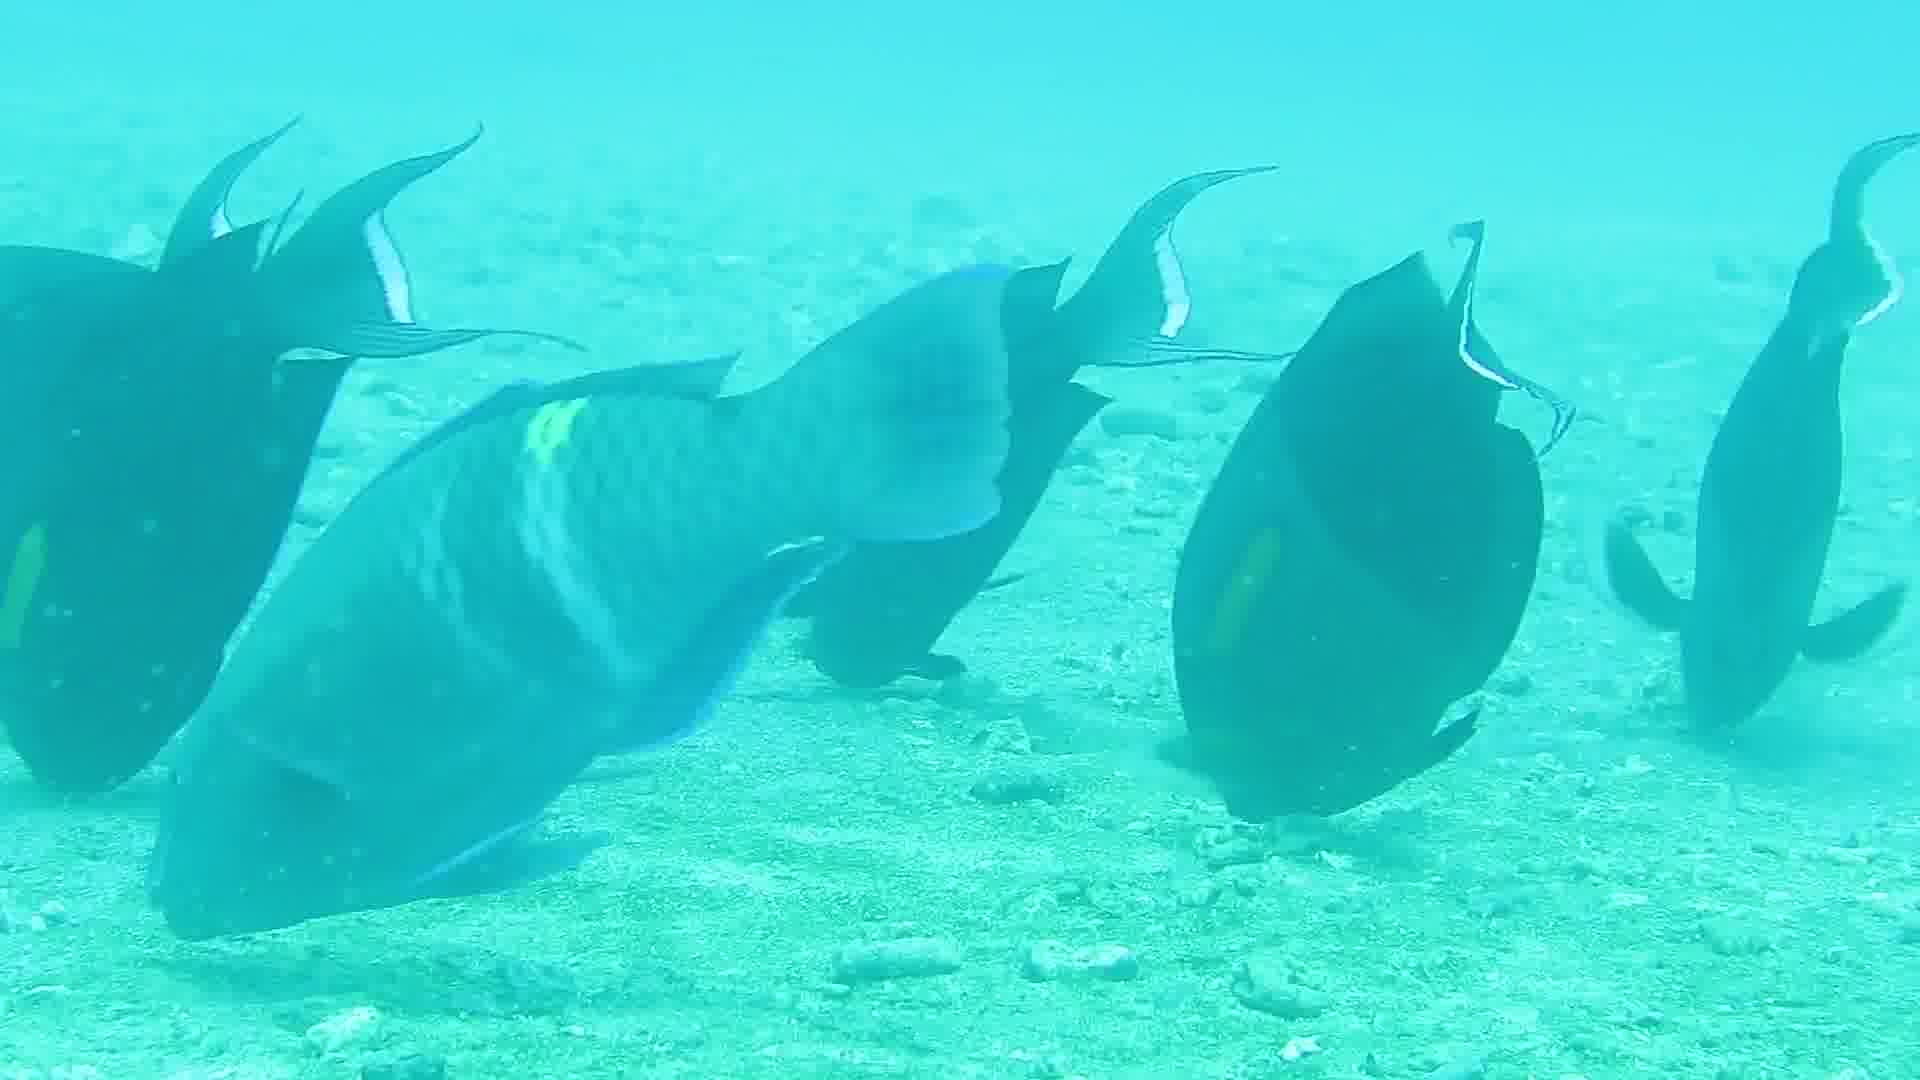Acanthurus olivaceus: (169, 367, 891, 942), (1153, 257, 1650, 856), (3, 185, 468, 804), (1648, 175, 1920, 796), (836, 152, 1108, 771)
